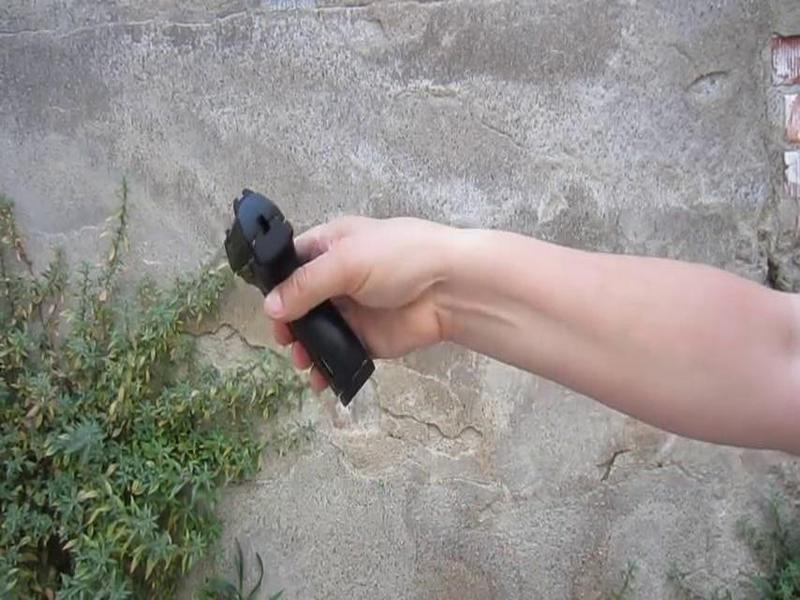Pistola: (156, 177, 386, 408)
